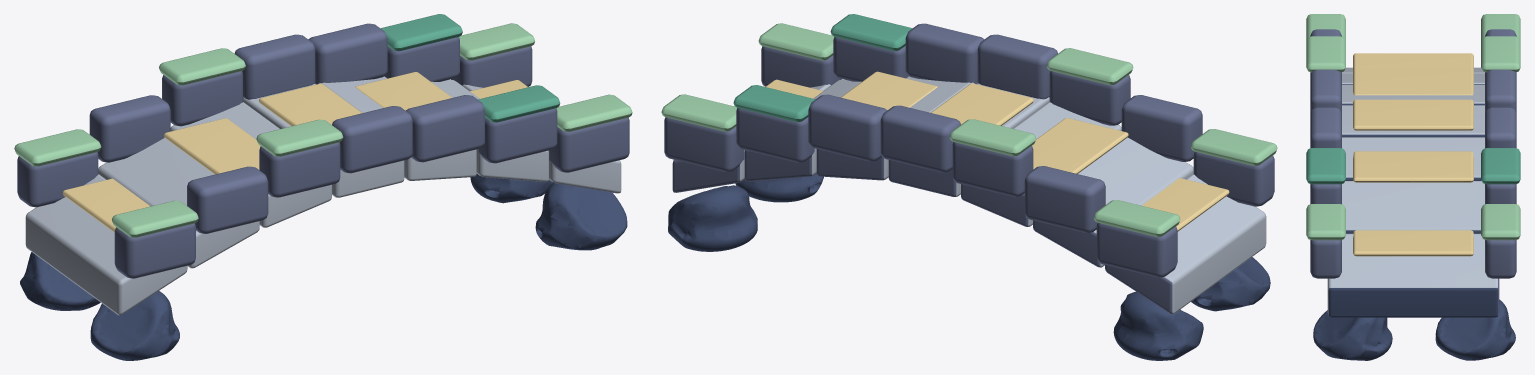
The model's file is bridge.glb.
3 views of the same model, side by side, from view 1: azimuth 30°, elevation 25°; view 2: azimuth 150°, elevation 25°; view 3: azimuth 270°, elevation 25° (orthographic). The views are drawn at different scales.
Visible parts, largest first — view 1: Arch deck block 0, Arch deck block 1, Tripo rock abutment.002, Tripo rock abutment, Low parapet.002, Low parapet.006, Low parapet.008, Low parapet.003, Low parapet.007, Low parapet.009, Walkable stone.001, Low parapet (+26 smaller); view 2: Arch deck block 0, Arch deck block 1, Tripo rock abutment.003, Low parapet.003, Tripo rock abutment.001, Low parapet.007, Low parapet.009, Low parapet.002, Low parapet.006, Low parapet.008, Walkable stone.001, Low parapet.001 (+26 smaller); view 3: Arch deck block 6, Arch deck block 5, Walkable stone.002, Walkable stone.003, Walkable stone.001, Walkable stone.004, Tripo rock abutment.003, Tripo rock abutment.002, Arch deck block 4, Walkable stone, Arch deck block 3, Moss cap.006 (+19 smaller).
Boxes of the visible parts, x1=… form: Arch deck block 0: x1=25, y1=174, x2=187, y2=315; Arch deck block 1: x1=98, y1=138, x2=259, y2=268; Tripo rock abutment.002: x1=535, y1=183, x2=627, y2=250; Tripo rock abutment: x1=90, y1=291, x2=179, y2=360; Low parapet.002: x1=187, y1=166, x2=268, y2=233; Low parapet.006: x1=332, y1=106, x2=412, y2=173; Low parapet.008: x1=406, y1=95, x2=484, y2=162; Low parapet.003: x1=89, y1=95, x2=170, y2=162; Low parapet.007: x1=234, y1=34, x2=315, y2=99; Low parapet.009: x1=308, y1=23, x2=387, y2=84; Walkable stone.001: x1=164, y1=118, x2=260, y2=174; Low parapet: x1=114, y1=223, x2=195, y2=278; Arch deck block 0: x1=1105, y1=173, x2=1266, y2=313; Arch deck block 1: x1=1033, y1=137, x2=1193, y2=267; Tripo rock abutment.003: x1=668, y1=185, x2=757, y2=251; Low parapet.003: x1=1024, y1=166, x2=1105, y2=232; Tripo rock abutment.001: x1=1113, y1=291, x2=1203, y2=360; Low parapet.007: x1=880, y1=105, x2=960, y2=172; Low parapet.009: x1=808, y1=94, x2=887, y2=161; Low parapet.002: x1=1121, y1=95, x2=1202, y2=161; Low parapet.006: x1=977, y1=34, x2=1057, y2=99; Low parapet.008: x1=905, y1=23, x2=984, y2=83; Walkable stone.001: x1=1032, y1=118, x2=1128, y2=173; Low parapet.001: x1=1096, y1=223, x2=1177, y2=277; Arch deck block 6: x1=1327, y1=233, x2=1499, y2=317; Arch deck block 5: x1=1342, y1=181, x2=1484, y2=233; Walkable stone.002: x1=1353, y1=99, x2=1473, y2=130; Walkable stone.003: x1=1353, y1=151, x2=1473, y2=182; Walkable stone.001: x1=1353, y1=68, x2=1473, y2=95; Walkable stone.004: x1=1353, y1=230, x2=1473, y2=256; Tripo rock abutment.003: x1=1435, y1=299, x2=1515, y2=360; Tripo rock abutment.002: x1=1313, y1=310, x2=1392, y2=360; Arch deck block 4: x1=1342, y1=137, x2=1484, y2=180; Walkable stone: x1=1353, y1=53, x2=1473, y2=70; Arch deck block 3: x1=1342, y1=105, x2=1484, y2=137; Moss cap.006: x1=1306, y1=204, x2=1345, y2=240.
Size of the model in its own units: 3.43 by 1.18 by 1.35.
